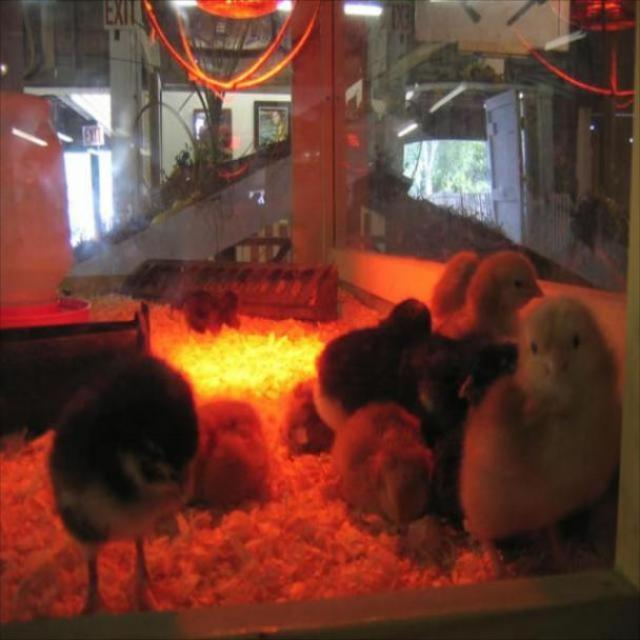Chicken: (43, 353, 198, 624)
